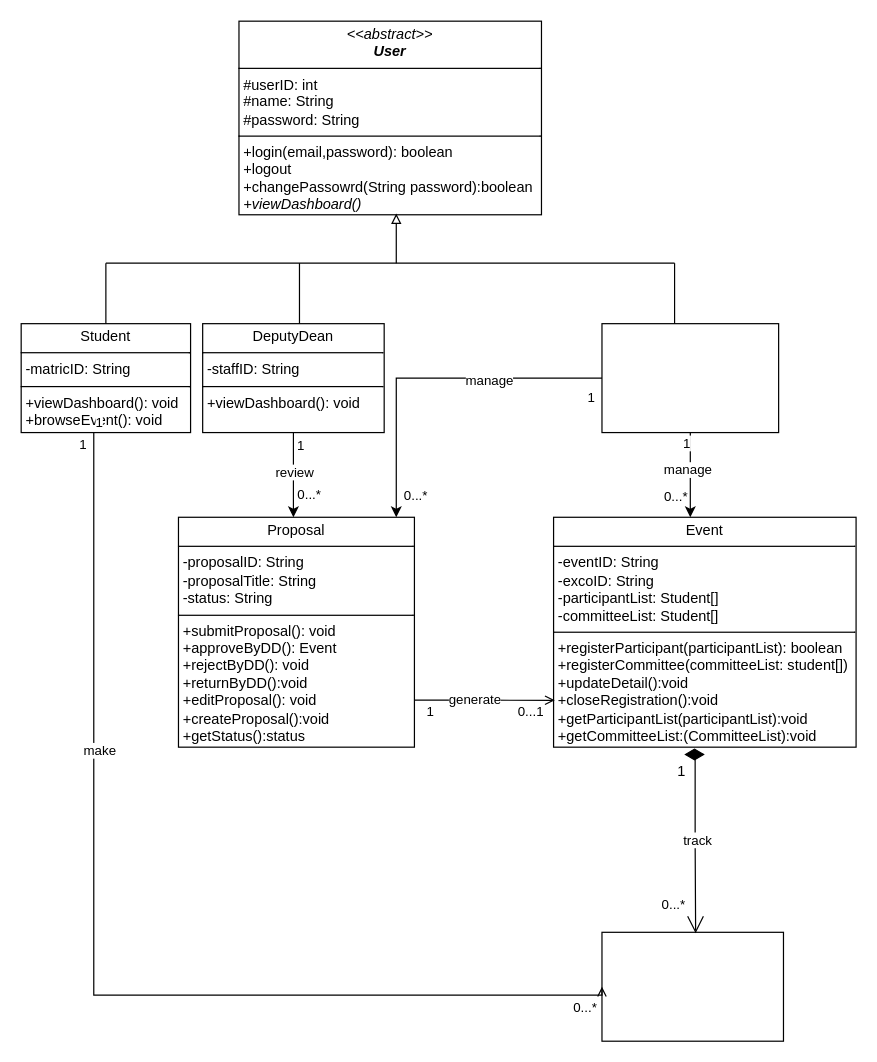
This 877x1062 diagram has some shape labels left out. Here are the shapes that lost their labels. From the top down, the box of each, then its label:
(601, 322, 779, 433): EventOrganizer -excoID: String +viewDashboard(): void
(601, 931, 783, 1041): Payment -paymentID: String -amount: double +getPaymentStatus(): void
